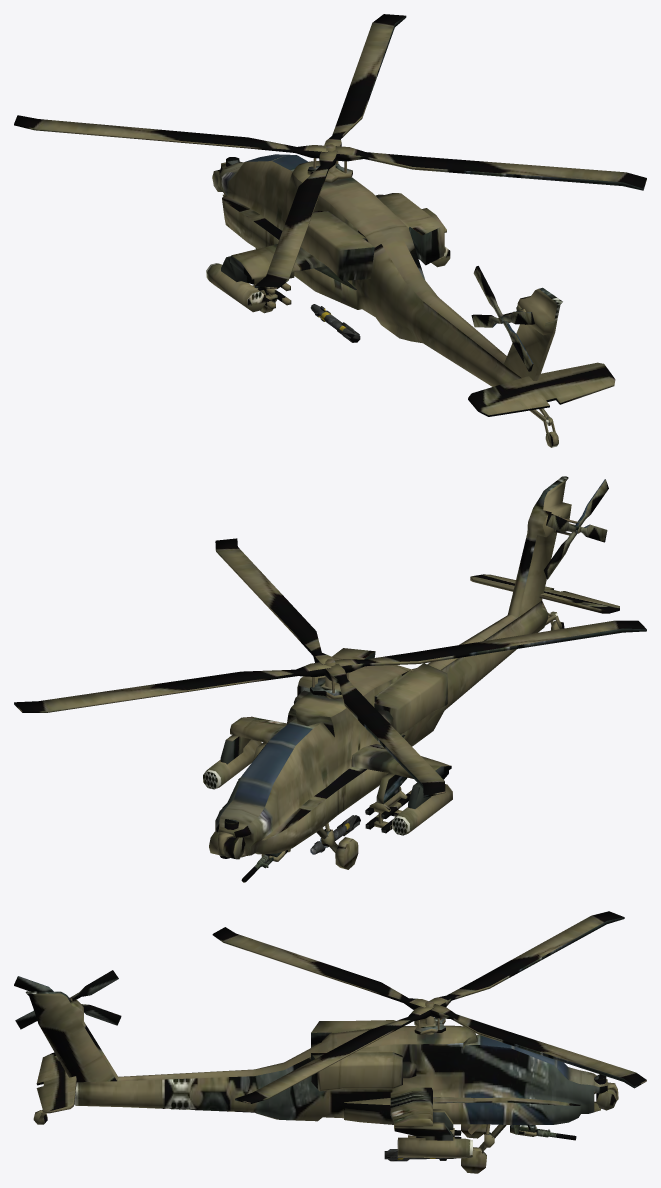
Rendered from v3d-hubschrauber.glb.
3 renders of one model, top to bottom at view 1: azimuth 30°, elevation 25°; view 2: azimuth 150°, elevation 25°; view 3: azimuth 270°, elevation 25°, orthographic. The views are drawn at different scales.
Parts seen in each view (by area): view 1: rumpf, rotor, heckrotor; view 2: rumpf, rotor, heckrotor; view 3: rumpf, rotor, heckrotor.
Part boxes in pixels (x1=…): rumpf: x1=206, y1=154, x2=615, y2=447; rotor: x1=14, y1=14, x2=646, y2=289; heckrotor: x1=471, y1=266, x2=534, y2=371; rumpf: x1=203, y1=476, x2=619, y2=882; rotor: x1=14, y1=538, x2=646, y2=797; heckrotor: x1=544, y1=479, x2=608, y2=579; rumpf: x1=25, y1=991, x2=618, y2=1173; rotor: x1=212, y1=911, x2=646, y2=1103; heckrotor: x1=14, y1=970, x2=121, y2=1029.
Size of the model in its own units: 12.15 by 5.44 by 17.7.
Materials: 1 (1 with a texture image).
